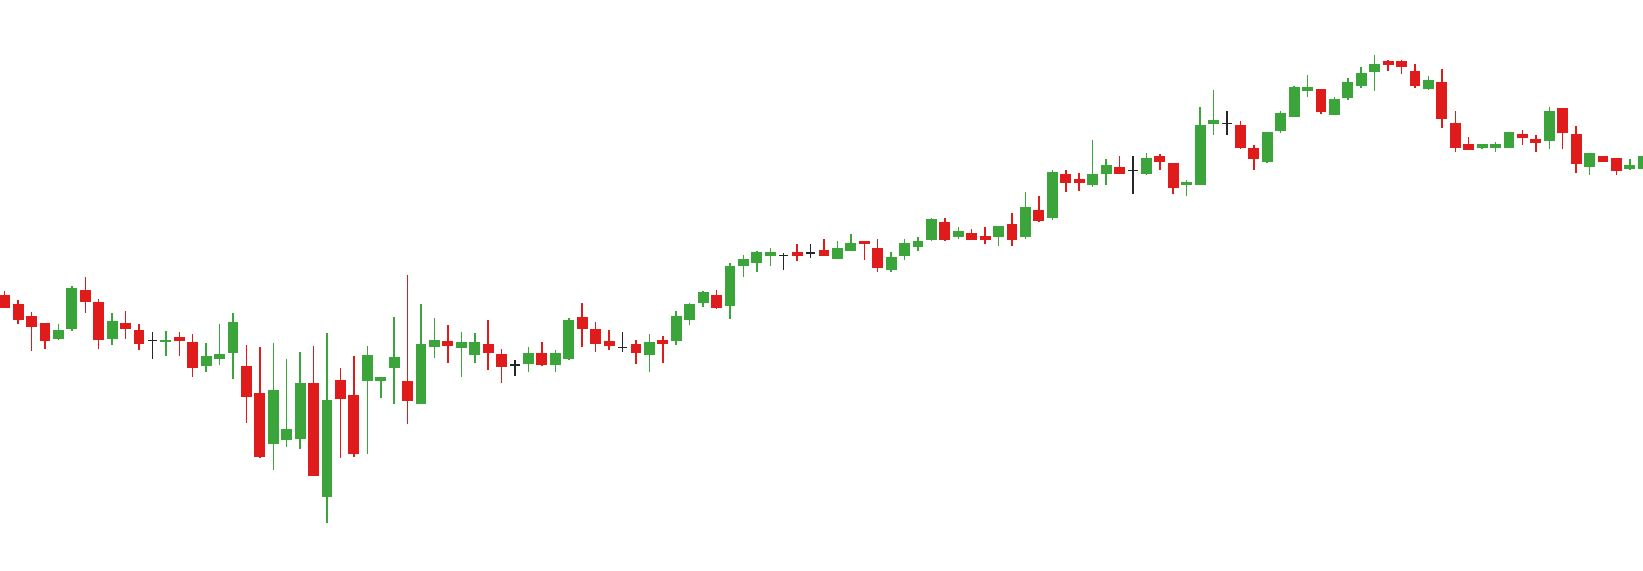buy: (253, 401, 336, 521)
